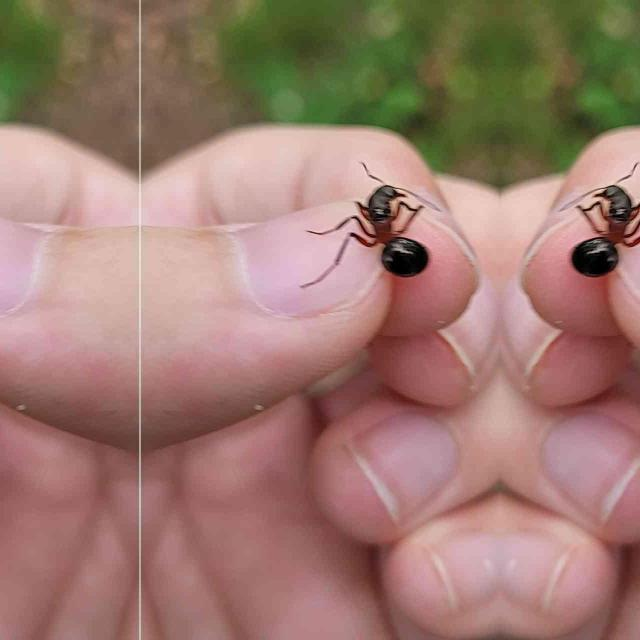Formica: (344, 168, 440, 290), (560, 168, 640, 290)
